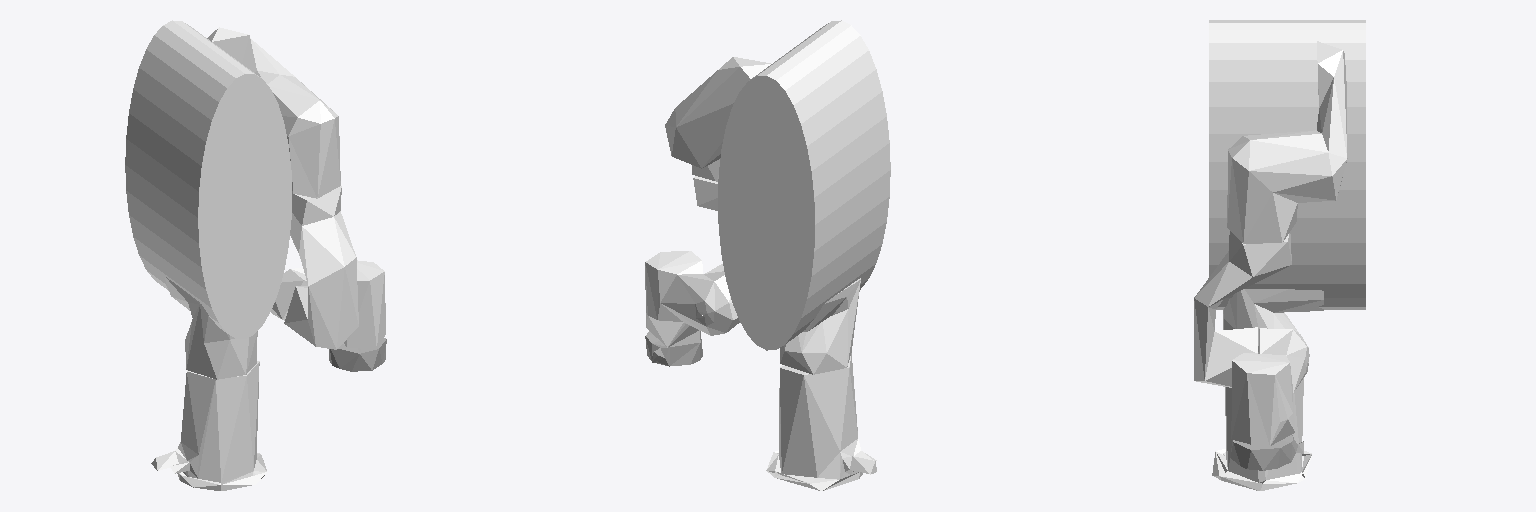
The robot description file, URDF, robot "xarm6":
<?xml version="1.0" encoding="utf-8"?>
<!-- =================================================================================== -->
<!-- |    This document was autogenerated by xacro from xarm6_robot.urdf.xacro         | -->
<!-- |    EDITING THIS FILE BY HAND IS NOT RECOMMENDED                                 | -->
<!-- =================================================================================== -->
<robot name="xarm6">
  <!--
  Author: Jason Peng <[email redacted]>
  Contributers:
-->
  <link name="world"/>
  <joint name="world_joint" type="fixed">
    <parent link="world"/>
    <child link="link_base"/>
    <origin rpy="0 0 0" xyz="0 0 0"/>
  </joint>
  <material name="Black">
    <color rgba="0.0 0.0 0.0 1.0"/>
  </material>
  <material name="Red">
    <color rgba="0.8 0.0 0.0 1.0"/>
  </material>
  <material name="White">
    <color rgba="1.0 1.0 1.0 1.0"/>
  </material>
  <material name="Silver">
    <color rgba="0.753 0.753 0.753 1.0"/>
  </material>
  <link name="link_base">
    <visual>
      <geometry>
        <mesh filename="visual/base.stl"/>
      </geometry>
      <origin rpy="0 0 0" xyz="0 0 0"/>
      <material name="White"/>
    </visual>
    <collision>
      <geometry>
        <mesh filename="visual/base.stl"/>
      </geometry>
      <origin rpy="0 0 0" xyz="0 0 0"/>
    </collision>
    <inertial>
      <origin rpy="0 0 0" xyz="0.0 0.0 0.09103"/>
      <mass value="2.7"/>
      <inertia ixx="0.00494875" ixy="-3.5E-06" ixz="1.25E-05" iyy="0.00494174" iyz="1.67E-06" izz="0.002219"/>
    </inertial>
  </link>
  <link name="link1">
    <visual>
      <geometry>
        <mesh filename="visual/link1.stl"/>
      </geometry>
      <origin rpy="0 0 0" xyz="0 0 0"/>
      <material name="White"/>
    </visual>
    <collision>
      <geometry>
        <mesh filename="visual/link1.stl"/>
      </geometry>
      <origin rpy="0 0 0" xyz="0 0 0"/>
    </collision>
    <inertial>
      <origin rpy="0 0 0" xyz="-0.002 0.02692 -0.01332"/>
      <mass value="2.16"/>
      <inertia ixx="0.00539427" ixy="1.095E-05" ixz="1.635E-06" iyy="0.0048979" iyz="0.000793" izz="0.00311573"/>
    </inertial>
  </link>
  <joint name="joint1" type="revolute">
    <parent link="link_base"/>
    <child link="link1"/>
    <origin rpy="0 0 0" xyz="0 0 0.267"/>
    <axis xyz="0 0 1"/>
    <limit effort="50.0" lower="-6.28318530718" upper="6.28318530718" velocity="3.14"/>
    <dynamics damping="1.0" friction="1.0"/>
  </joint>
  <link name="link2">
    <visual>
      <geometry>
        <mesh filename="visual/link2.stl"/>
      </geometry>
      <origin rpy="0 0 0" xyz="0 0 0"/>
      <material name="White"/>
    </visual>
    <collision>
      <geometry>
        <mesh filename="visual/link2.stl"/>
      </geometry>
      <origin rpy="0 0 0" xyz="0 0 0"/>
    </collision>
    <inertial>
      <origin rpy="0 0 0" xyz="0.03531 -0.21398 0.03386"/>
      <mass value="1.71"/>
      <inertia ixx="0.0248674" ixy="-0.00430651" ixz="-0.00067797" iyy="0.00485548" iyz="0.00457245" izz="0.02387827"/>
    </inertial>
  </link>
  <joint name="joint2" type="revolute">
    <parent link="link1"/>
    <child link="link2"/>
    <origin rpy="-1.5708 0 0" xyz="0 0 0"/>
    <axis xyz="0 0 1"/>
    <limit effort="50.0" lower="-2.059" upper="2.0944" velocity="3.14"/>
    <dynamics damping="1.0" friction="1.0"/>
  </joint>
  <link name="link3">
    <visual>
      <geometry>
        <mesh filename="visual/link3.stl"/>
      </geometry>
      <origin rpy="0 0 0" xyz="0 0 0"/>
      <material name="White"/>
    </visual>
    <collision>
      <geometry>
        <mesh filename="visual/link3.stl"/>
      </geometry>
      <origin rpy="0 0 0" xyz="0 0 0"/>
    </collision>
    <inertial>
      <origin rpy="0 0 0" xyz="0.06781 0.10749 0.01457"/>
      <mass value="1.384"/>
      <inertia ixx="0.0053694" ixy="0.0014185" ixz="-0.00092094" iyy="0.0032423" iyz="-0.00169178" izz="0.00501731"/>
    </inertial>
  </link>
  <joint name="joint3" type="revolute">
    <parent link="link2"/>
    <child link="link3"/>
    <origin rpy="0 0 0" xyz="0.0535 -0.2845 0"/>
    <axis xyz="0 0 1"/>
    <limit effort="32.0" lower="-3.927" upper="0.19198" velocity="3.14"/>
    <dynamics damping="1.0" friction="1.0"/>
  </joint>
  <link name="link4">
    <visual>
      <geometry>
        <mesh filename="visual/link4.stl"/>
      </geometry>
      <origin rpy="0 0 0" xyz="0 0 0"/>
      <material name="White"/>
    </visual>
    <collision>
      <geometry>
        <mesh filename="visual/link4.stl"/>
      </geometry>
      <origin rpy="0 0 0" xyz="0 0 0"/>
    </collision>
    <inertial>
      <origin rpy="0 0 0" xyz="-0.00021 0.02578 -0.02538"/>
      <mass value="1.115"/>
      <inertia ixx="0.00439263" ixy="5.028E-05" ixz="1.374E-05" iyy="0.0040077" iyz="0.00045338" izz="0.00110321"/>
    </inertial>
  </link>
  <joint name="joint4" type="revolute">
    <parent link="link3"/>
    <child link="link4"/>
    <origin rpy="-1.5708 0 0" xyz="0.0775 0.3425 0"/>
    <axis xyz="0 0 1"/>
    <limit effort="32.0" lower="-6.28318530718" upper="6.28318530718" velocity="3.14"/>
    <dynamics damping="1.0" friction="1.0"/>
  </joint>
  <link name="link5">
    <visual>
      <geometry>
        <mesh filename="visual/link5.stl"/>
      </geometry>
      <origin rpy="0 0 0" xyz="0 0 0"/>
      <material name="White"/>
    </visual>
    <collision>
      <geometry>
        <mesh filename="visual/link5.stl"/>
      </geometry>
      <origin rpy="0 0 0" xyz="0 0 0"/>
    </collision>
    <inertial>
      <origin rpy="0 0 0" xyz="0.05428 0.01781 0.00543"/>
      <mass value="1.275"/>
      <inertia ixx="0.001202758" ixy="0.000492428" ixz="-0.00039147" iyy="0.0022876" iyz="-1.235E-04" izz="0.0026866"/>
    </inertial>
  </link>
  <joint name="joint5" type="revolute">
    <parent link="link4"/>
    <child link="link5"/>
    <origin rpy="1.5708 0 0" xyz="0 0 0"/>
    <axis xyz="0 0 1"/>
    <limit effort="32.0" lower="-1.69297" upper="3.14159265359" velocity="3.14"/>
    <dynamics damping="1.0" friction="1.0"/>
  </joint>
  <link name="link6">
    <visual>
      <geometry>
        <mesh filename="visual/link6.stl"/>
      </geometry>
      <origin rpy="0 0 0" xyz="0 0 0"/>
      <material name="Silver"/>
    </visual>
    <collision>
      <geometry>
        <mesh filename="visual/link6.stl"/>
      </geometry>
      <origin rpy="0 0 0" xyz="0 0 0"/>
    </collision>
    <inertial>
      <origin rpy="0 0 0" xyz="0 0.00064 -0.00952"/>
      <mass value="0.1096"/>
      <inertia ixx="4.5293E-05" ixy="0" ixz="0" iyy="4.8111E-05" iyz="0" izz="7.9715E-05"/>
    </inertial>
  </link>
  <joint name="joint6" type="revolute">
    <parent link="link5"/>
    <child link="link6"/>
    <origin rpy="-1.5708 0 0" xyz="0.076 0.097 0"/>
    <axis xyz="0 0 1"/>
    <limit effort="20.0" lower="-6.28318530718" upper="6.28318530718" velocity="3.14"/>
    <dynamics damping="1.0" friction="1.0"/>
  </joint>
  <link name="link_eef"/>
  <joint name="joint_eef" type="fixed">
    <origin rpy="0 0 0" xyz="0 0 0"/>
    <parent link="link6"/>
    <child link="link_eef"/>
  </joint>
  <transmission name="tran1">
    <type>transmission_interface/SimpleTransmission</type>
    <joint name="joint1">
      <hardwareInterface>hardware_interface/PositionJointInterface</hardwareInterface>
    </joint>
    <actuator name="motor1">
      <hardwareInterface>hardware_interface/PositionJointInterface</hardwareInterface>
      <mechanicalReduction>100</mechanicalReduction>
    </actuator>
  </transmission>
  <transmission name="tran2">
    <type>transmission_interface/SimpleTransmission</type>
    <joint name="joint2">
      <hardwareInterface>hardware_interface/PositionJointInterface</hardwareInterface>
    </joint>
    <actuator name="motor2">
      <hardwareInterface>hardware_interface/PositionJointInterface</hardwareInterface>
      <mechanicalReduction>100</mechanicalReduction>
    </actuator>
  </transmission>
  <transmission name="tran3">
    <type>transmission_interface/SimpleTransmission</type>
    <joint name="joint3">
      <hardwareInterface>hardware_interface/PositionJointInterface</hardwareInterface>
    </joint>
    <actuator name="motor3">
      <hardwareInterface>hardware_interface/PositionJointInterface</hardwareInterface>
      <mechanicalReduction>100</mechanicalReduction>
    </actuator>
  </transmission>
  <transmission name="tran4">
    <type>transmission_interface/SimpleTransmission</type>
    <joint name="joint4">
      <hardwareInterface>hardware_interface/PositionJointInterface</hardwareInterface>
    </joint>
    <actuator name="motor3">
      <hardwareInterface>hardware_interface/PositionJointInterface</hardwareInterface>
      <mechanicalReduction>100</mechanicalReduction>
    </actuator>
  </transmission>
  <transmission name="tran5">
    <type>transmission_interface/SimpleTransmission</type>
    <joint name="joint5">
      <hardwareInterface>hardware_interface/PositionJointInterface</hardwareInterface>
    </joint>
    <actuator name="motor5">
      <hardwareInterface>hardware_interface/PositionJointInterface</hardwareInterface>
      <mechanicalReduction>100</mechanicalReduction>
    </actuator>
  </transmission>
  <transmission name="tran6">
    <type>transmission_interface/SimpleTransmission</type>
    <joint name="joint6">
      <hardwareInterface>hardware_interface/PositionJointInterface</hardwareInterface>
    </joint>
    <actuator name="motor6">
      <hardwareInterface>hardware_interface/PositionJointInterface</hardwareInterface>
      <mechanicalReduction>100</mechanicalReduction>
    </actuator>
  </transmission>
  <gazebo reference="link_base">
    <selfCollide>true</selfCollide>
  </gazebo>
  <gazebo reference="link1">
    <selfCollide>true</selfCollide>
  </gazebo>
  <gazebo reference="link2">
    <selfCollide>true</selfCollide>
  </gazebo>
  <gazebo reference="link3">
    <selfCollide>true</selfCollide>
  </gazebo>
  <gazebo reference="link4">
    <selfCollide>true</selfCollide>
  </gazebo>
  <gazebo reference="link5">
    <selfCollide>true</selfCollide>
  </gazebo>
  <gazebo reference="link6">
    <selfCollide>true</selfCollide>
  </gazebo>
</robot>

--- What the picture shows (computed from the rendered views, not written in the file) ---
Views: 3 orthographic renders of the robot side by side, from view 1: azimuth 30°, elevation 25°; view 2: azimuth 150°, elevation 25°; view 3: azimuth 270°, elevation 25°.
Model xarm6 with 9 links and 8 joints (6 revolute, 2 fixed), rooted at world, posed every joint at zero.
Links seen in each view (by area): view 1: link2, link_base, link4, link3, link1, link5, link6; view 2: link2, link_base, link5, link3, link1, link6, link4; view 3: link2, link3, link5, link4, link1, link_base, link6.
Link boxes in pixels (box(x1,y1,x2,y2)): link2: box(125, 20, 291, 338); link_base: box(151, 361, 266, 490); link4: box(284, 186, 358, 349); link3: box(207, 27, 340, 198); link1: box(165, 277, 257, 379); link5: box(271, 260, 385, 349); link6: box(329, 338, 386, 371); link2: box(718, 20, 890, 350); link_base: box(766, 353, 876, 490); link5: box(645, 251, 739, 347); link3: box(665, 57, 770, 181); link1: box(780, 278, 860, 374); link6: box(645, 330, 702, 366); link4: box(693, 176, 723, 273); link2: box(1209, 20, 1365, 309); link3: box(1227, 41, 1347, 243); link5: box(1231, 328, 1309, 445); link4: box(1194, 231, 1291, 387); link1: box(1223, 289, 1323, 351); link_base: box(1212, 378, 1311, 490); link6: box(1231, 435, 1303, 470).
Size in the robot's own frame: 0.3365 by 0.2093 by 0.601 metres.
7 mesh visuals loaded from 7 distinct referenced files (7 binary STL).
